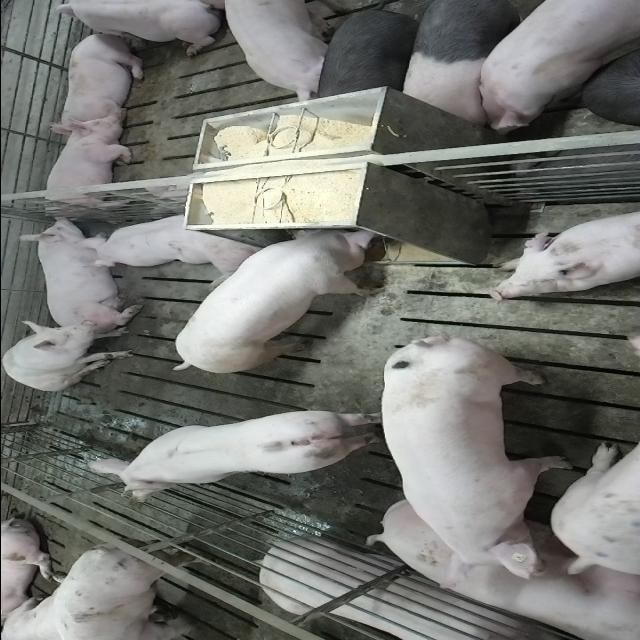Feeding: (170, 219, 390, 369)
Lateral_lying: (256, 537, 608, 640)
Sitting: (2, 320, 136, 391)
Standing: (372, 333, 570, 608), (82, 408, 380, 502), (470, 1, 640, 136), (400, 2, 566, 129), (58, 536, 225, 640), (545, 438, 638, 580), (222, 3, 342, 108), (309, 2, 422, 102)
Sternal_lying: (488, 208, 640, 302), (16, 216, 136, 326), (76, 210, 258, 272), (41, 2, 225, 56), (37, 116, 136, 215), (53, 30, 148, 128)
